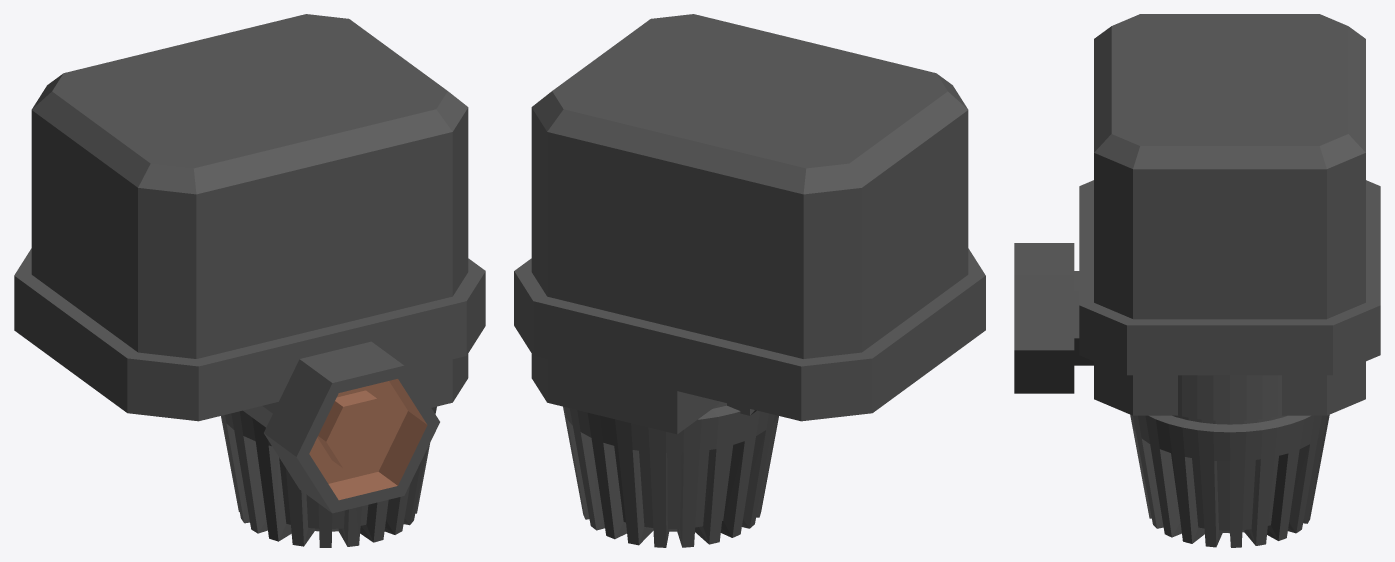
The model's file is 1302 Sump Pump.obj.
3 views of the same model, side by side, from view 1: azimuth 30°, elevation 25°; view 2: azimuth 150°, elevation 25°; view 3: azimuth 270°, elevation 25° (orthographic). The views are drawn at different scales.
Visible parts, largest first — view 1: Sump_Pump; view 2: Sump_Pump; view 3: Sump_Pump.
Part boxes in pixels (x1,y1,x2,y2): Sump_Pump: [14, 14, 485, 547]; Sump_Pump: [514, 14, 985, 547]; Sump_Pump: [1014, 14, 1380, 547].
Bounding box in the file's own units: 58.65 × 68.51 × 57.
1 material, 1 textured.
